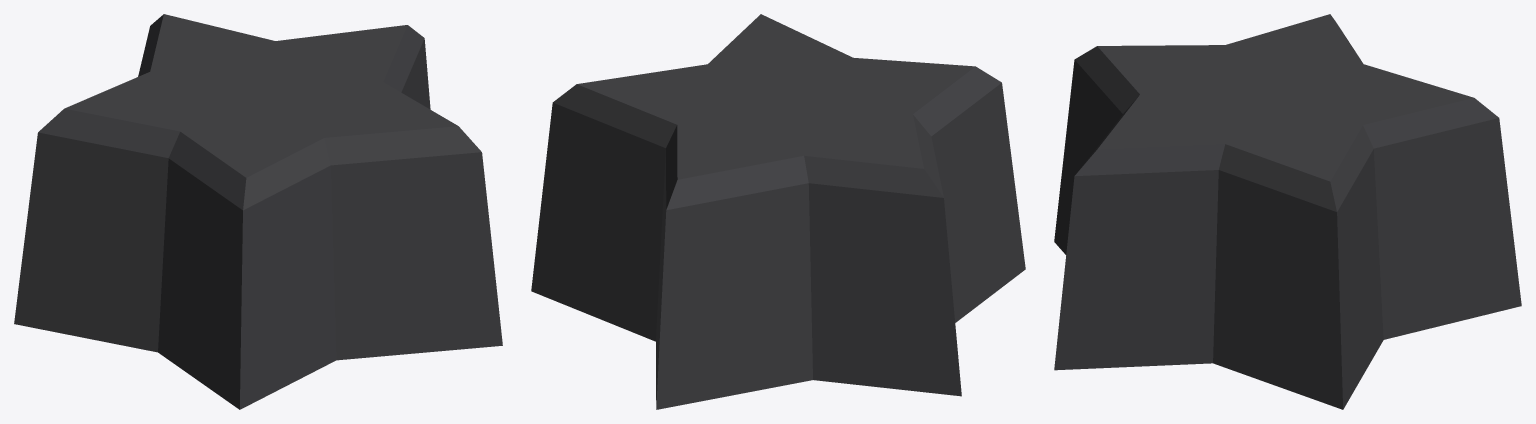
Rendered from SM_UI_Star_01.fbx.
3 views of the same model, side by side, from view 1: azimuth 30°, elevation 25°; view 2: azimuth 150°, elevation 25°; view 3: azimuth 270°, elevation 25° (orthographic).
Parts seen in each view (by area): view 1: SM_UI_Star_01; view 2: SM_UI_Star_01; view 3: SM_UI_Star_01.
Part boxes in pixels (x1,y1,x2,y2): SM_UI_Star_01: (14,14,502,409); SM_UI_Star_01: (531,14,1025,409); SM_UI_Star_01: (1054,14,1521,409).
Size of the model in its own units: 185 by 86.77 by 175.
1 material, 1 textured.
